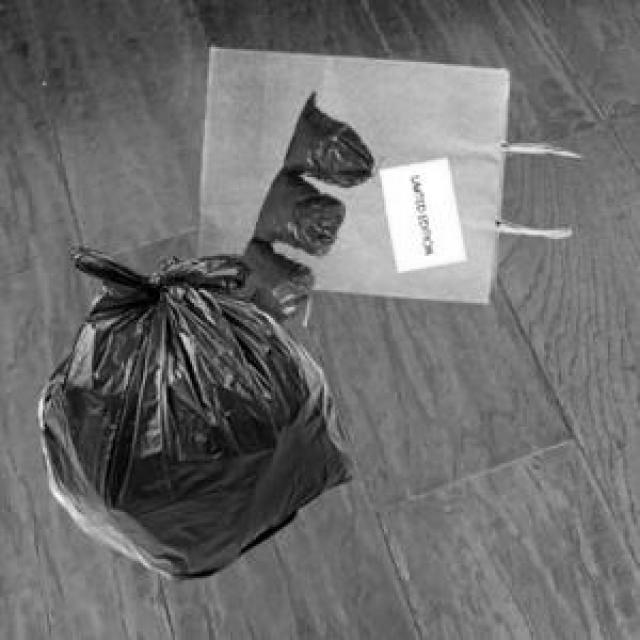miscellaneous trash: (34, 243, 348, 576), (233, 90, 369, 322)
paper: (193, 43, 576, 301)
